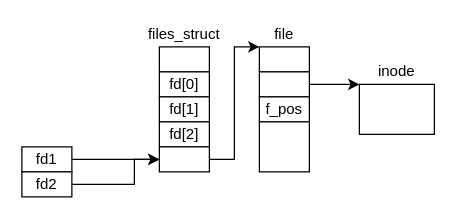
The diagram is 456 pixels wide and 219 high, and some of its shapes have lost their labels. The centre of each missing label's shape, as x and y in pixels:
"f_inode" goes at point (283, 84).
"fd[3]" goes at point (183, 159).
